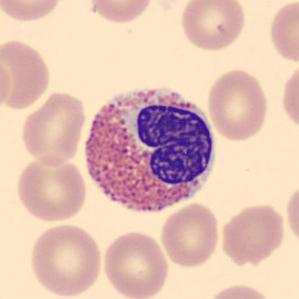Eosinophil: (76, 76, 223, 228)
RBC: (26, 222, 104, 298), (18, 89, 89, 167), (13, 155, 89, 224), (100, 229, 171, 299), (205, 67, 271, 142), (218, 201, 286, 266), (158, 201, 222, 269), (0, 36, 54, 111), (178, 0, 248, 53), (266, 0, 298, 66), (84, 0, 155, 25), (0, 0, 65, 24), (279, 61, 299, 134), (203, 282, 274, 299), (283, 182, 299, 247), (0, 54, 13, 114)
